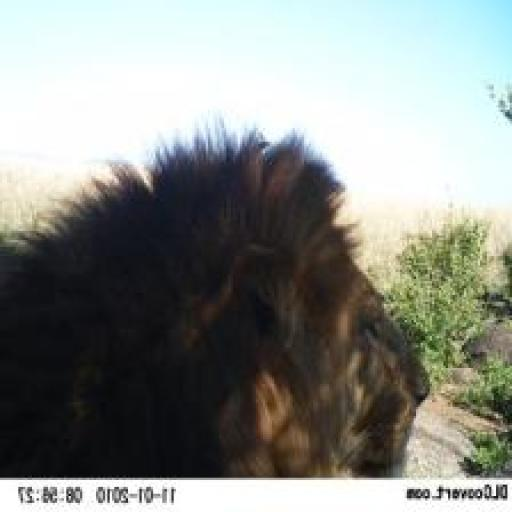lion: (0, 119, 458, 478)
